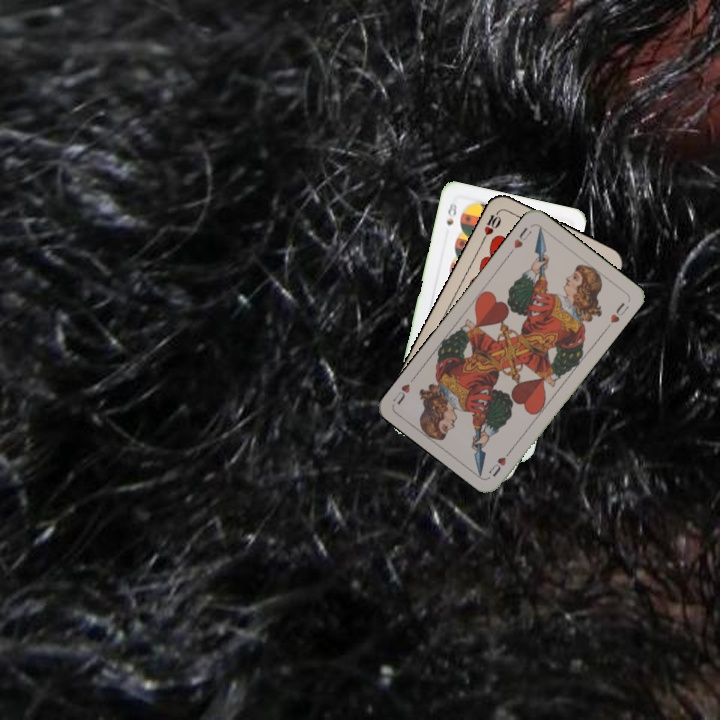H10: (478, 206, 504, 244)
HU: (484, 445, 515, 479), (505, 223, 534, 257)
S8: (442, 199, 460, 228)
